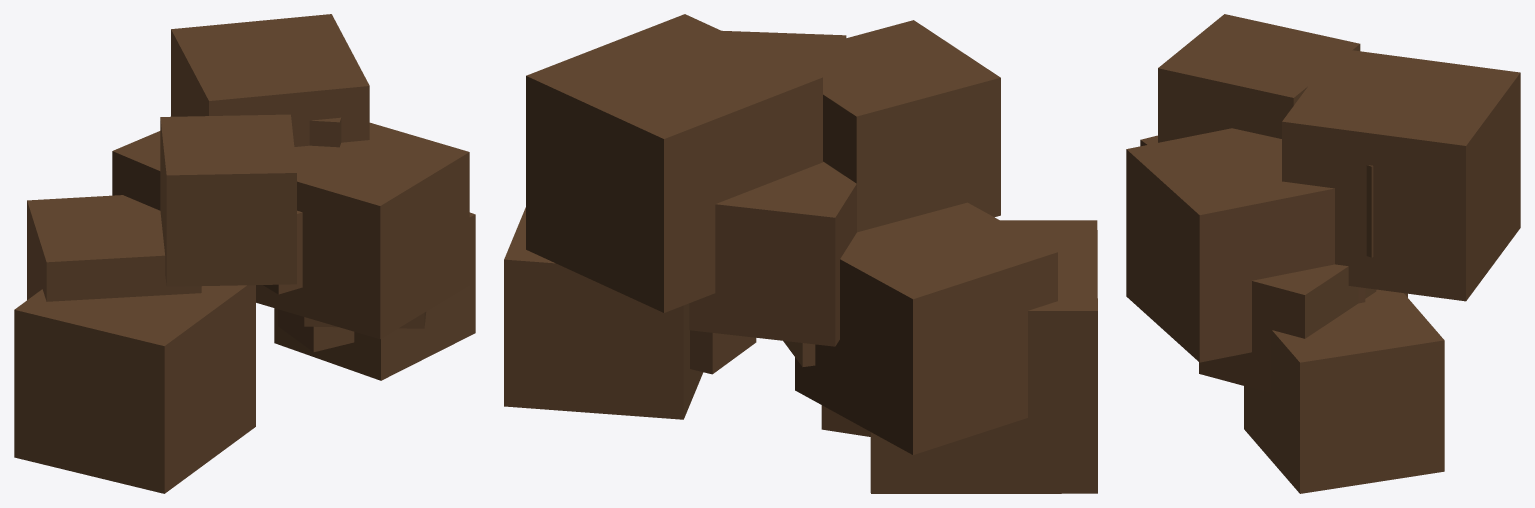
File: poop.glb
3 renders of one model, left to right at view 1: azimuth 30°, elevation 25°; view 2: azimuth 150°, elevation 25°; view 3: azimuth 270°, elevation 25°, orthographic. The views are drawn at different scales.
Parts seen in each view (by area): view 1: Poop Pop dimensional effect.001; view 2: Poop Pop dimensional effect.001; view 3: Poop Pop dimensional effect.001.
Part boxes in pixels (<box>): Poop Pop dimensional effect.001: <box>14,14,475,493</box>; Poop Pop dimensional effect.001: <box>504,14,1097,493</box>; Poop Pop dimensional effect.001: <box>1126,14,1520,493</box>.
Size of the model in its own units: 1.9 by 1.17 by 1.28.
